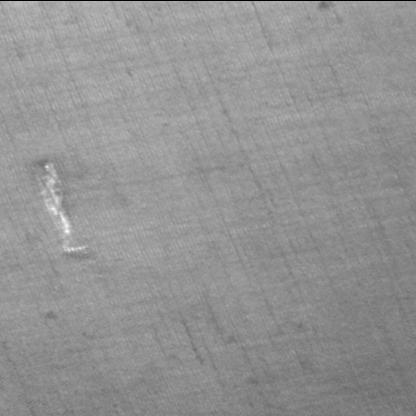hole: (25, 157, 93, 260)
